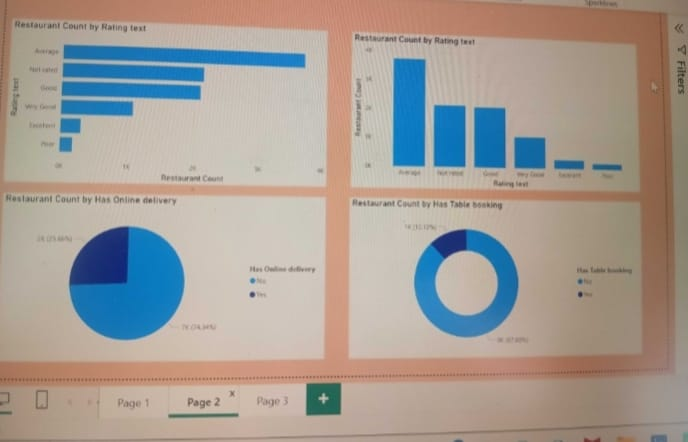

This screenshot's page, from the dashboard's own definition file:
{"tool":"powerbi","page":{"name":"Page 2","canvas":[1280,720],"ordinal":1},"visuals":[{"type":"clusteredBarChart","fields":{"Category":["KPIs.Rating text"],"Y":["KPIs.Restaurant Count"]},"box":[11.3,71.2,582.9,299.6],"z":0},{"type":"clusteredColumnChart","fields":{"Category":["KPIs.Rating text"],"Y":["KPIs.Restaurant Count"]},"box":[641.2,71.2,582.9,299.6],"z":1000},{"type":"pieChart","fields":{"Category":["KPIs.Has Online delivery"],"Y":["KPIs.Restaurant Count"]},"box":[11.3,390.2,582.9,299.6],"z":2000},{"type":"donutChart","fields":{"Category":["KPIs.Has Table booking"],"Y":["KPIs.Restaurant Count"]},"box":[639.6,390.2,584.5,299.6],"z":3000}]}

Visuals, with their boxes on the page's 1280x720 design canvas (x1, y1, x2, y2). These are canvas units, not pixel positions in the 688x442 screenshot, which may show the page scaled, cropped or inside an application window:
clusteredBarChart - KPIs.Rating text x KPIs.Restaurant Count: bbox=(11, 71, 594, 371)
clusteredColumnChart - KPIs.Rating text x KPIs.Restaurant Count: bbox=(641, 71, 1224, 371)
pieChart - KPIs.Has Online delivery x KPIs.Restaurant Count: bbox=(11, 390, 594, 690)
donutChart - KPIs.Has Table booking x KPIs.Restaurant Count: bbox=(640, 390, 1224, 690)
